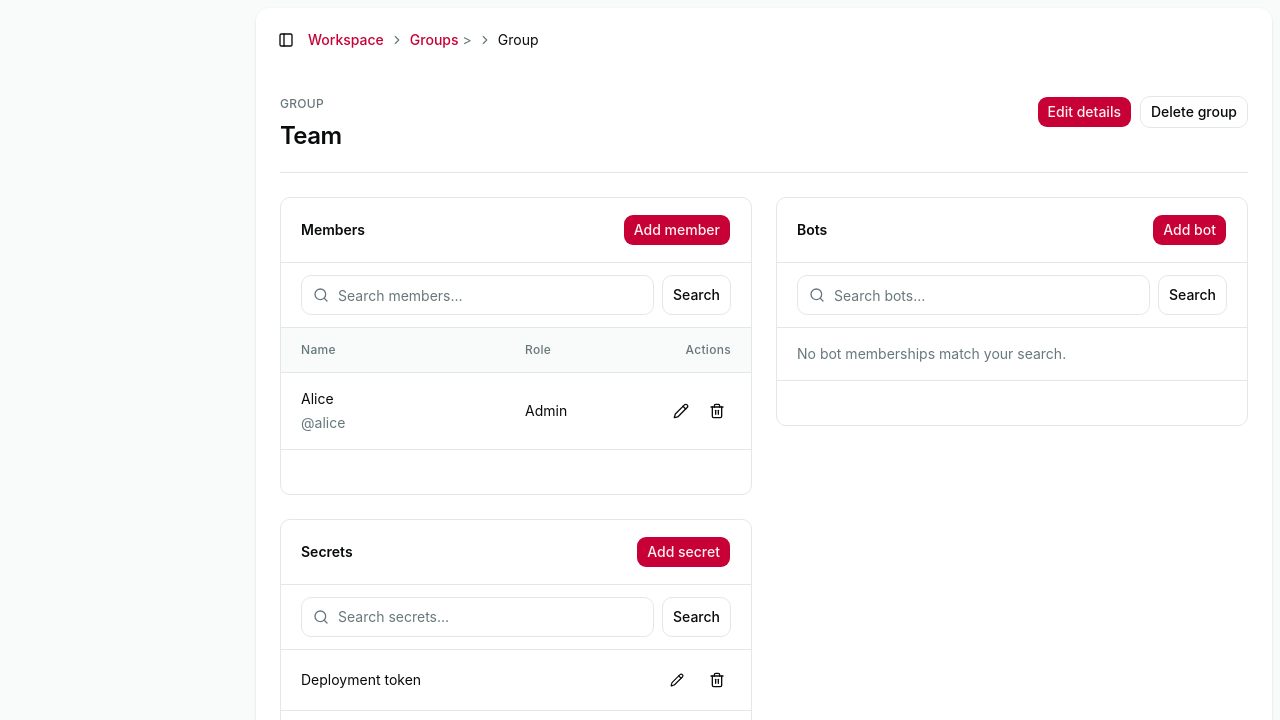
Test case: shows removal failures only in their confirmation
Click the button named "Remove Alice": [717, 410] box 703,396 -> 731,424
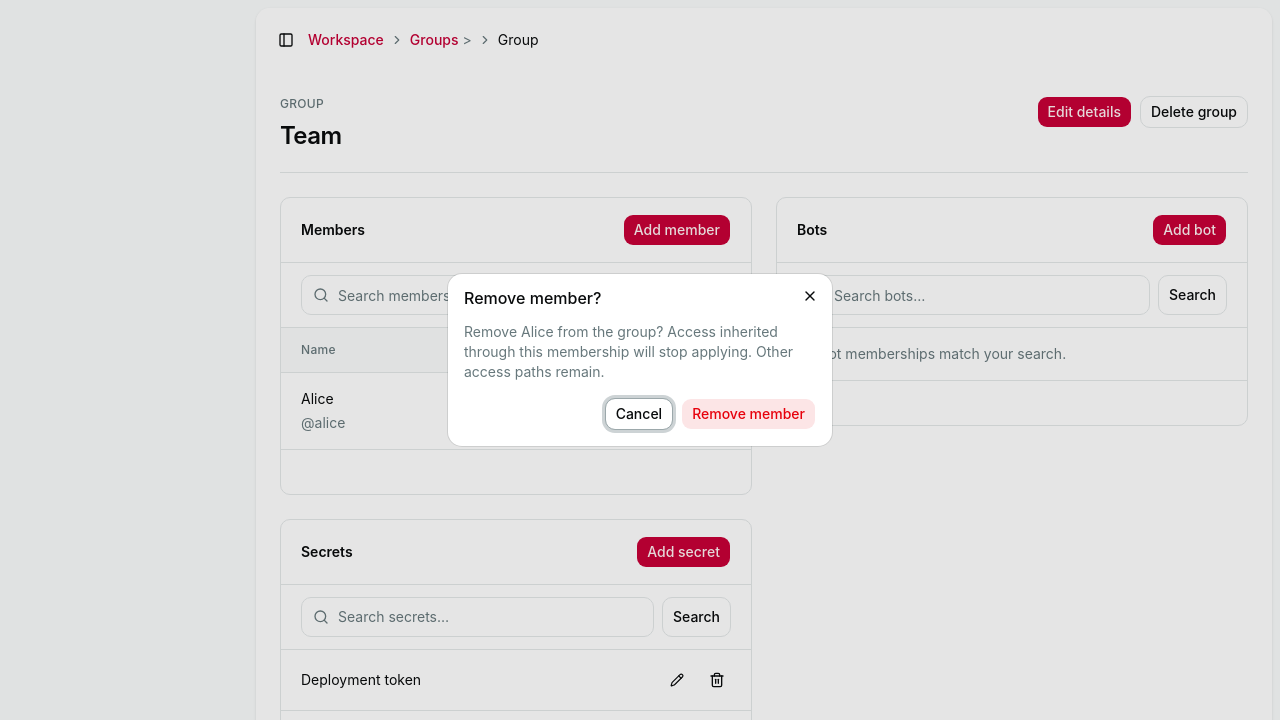
expect the heading "Remove member?" is shown: met, box 464,288 -> 601,308
expect the button "Remove member" is shown: met
Click the button "Remove member": [749, 414] box 681,398 -> 816,430
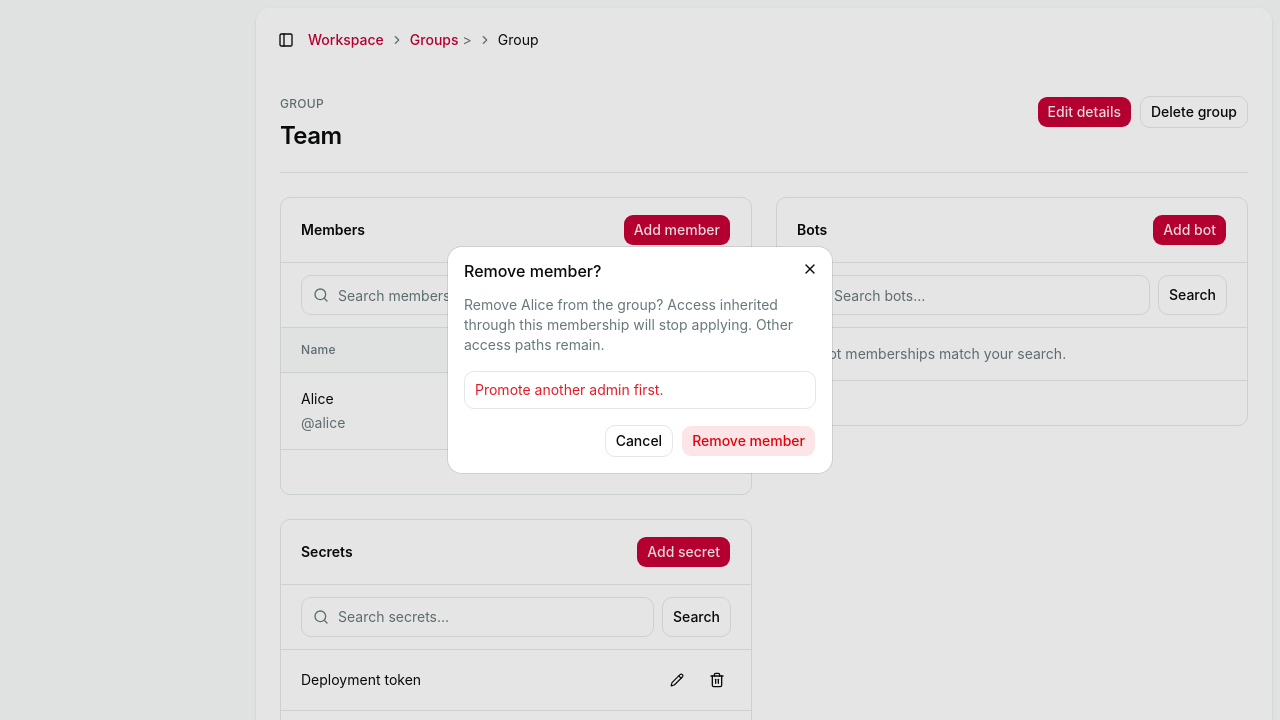
expect the dialog shows "Promote another admin first.": met, box 475,381 -> 664,398
